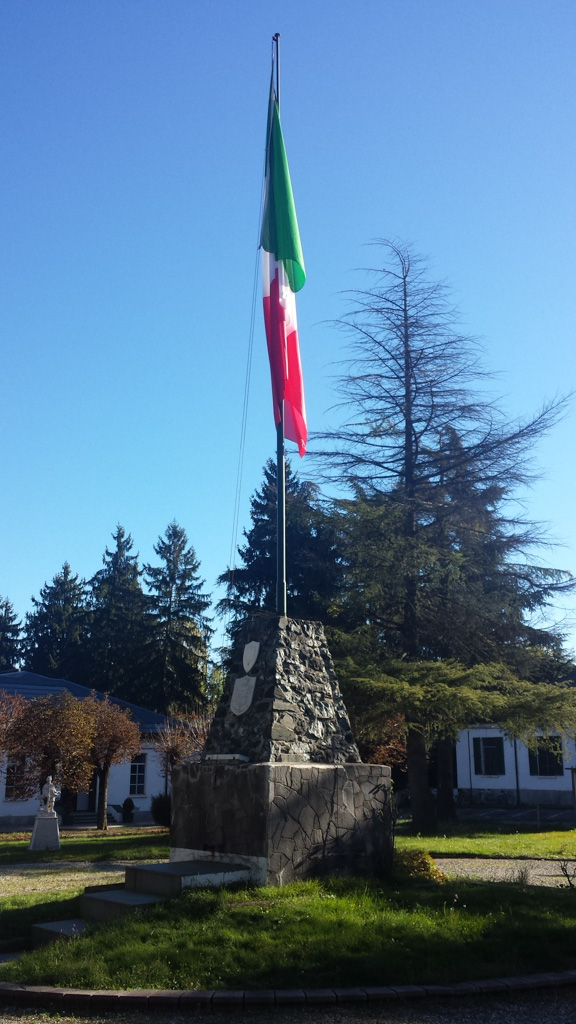Flag: (240, 64, 319, 454)
